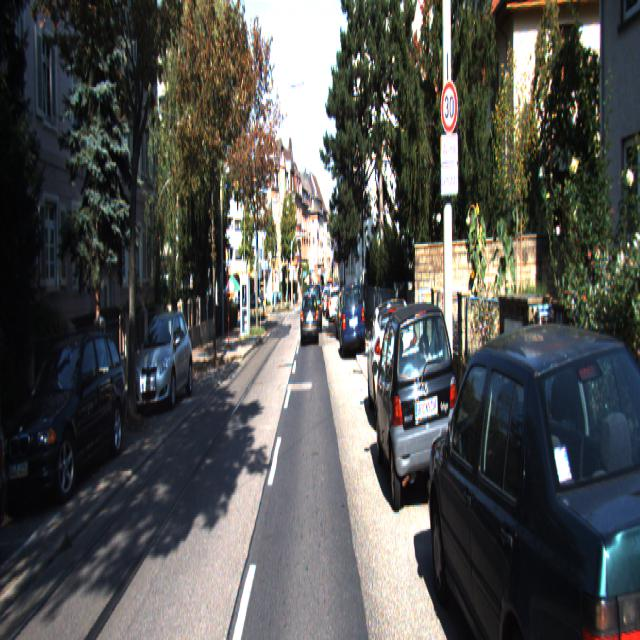Car: (423, 309, 640, 638), (0, 322, 130, 518), (374, 292, 458, 520), (365, 288, 420, 432), (132, 310, 194, 416), (339, 280, 367, 362), (300, 291, 318, 349), (307, 282, 323, 334), (328, 287, 341, 326)
